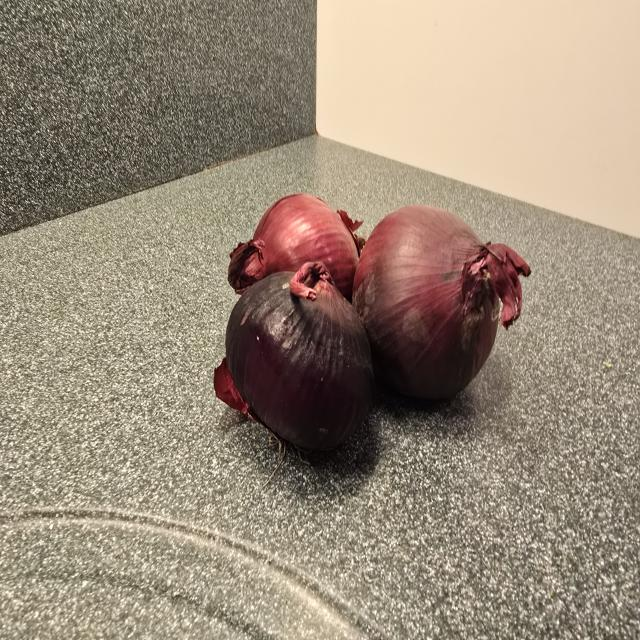Onion: (352, 205, 531, 399), (217, 272, 373, 450), (228, 194, 362, 300)
